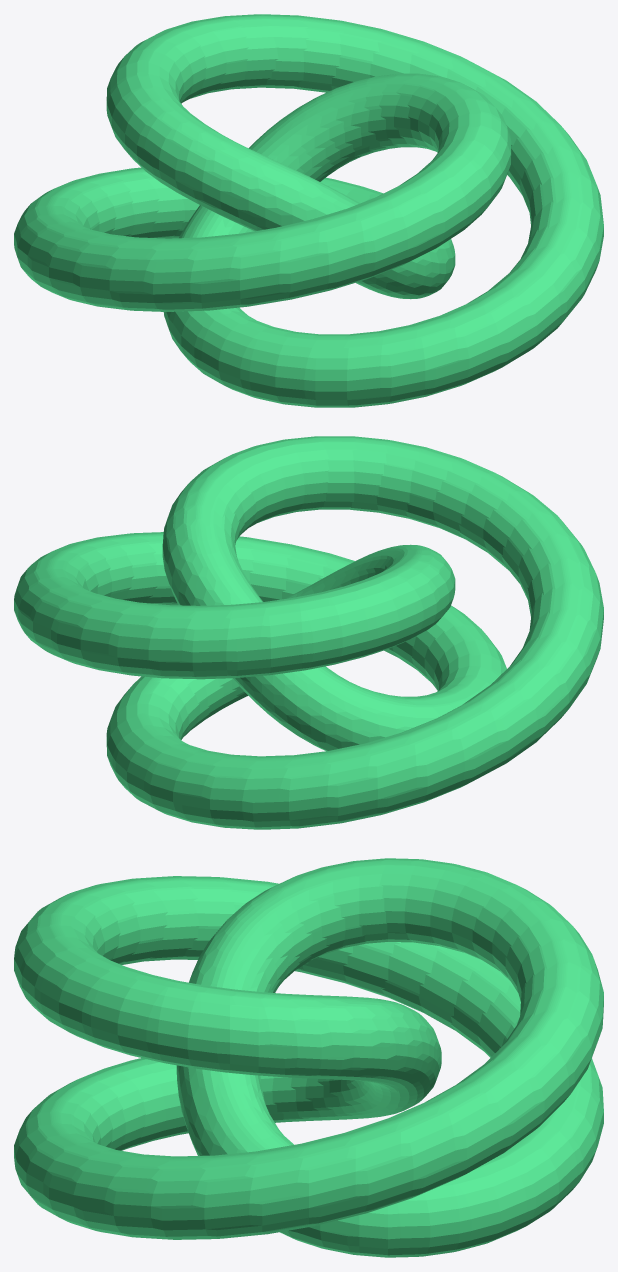
The model's file is knot.glb.
The picture shows the model from 3 angles, top to bottom: view 1: azimuth 30°, elevation 25°; view 2: azimuth 150°, elevation 25°; view 3: azimuth 270°, elevation 25°; orthographic projection. The views are drawn at different scales.
Parts seen in each view (by area): view 1: knot; view 2: knot; view 3: knot.
Part boxes in pixels (x1=…): knot: x1=14, y1=14, x2=603, y2=407; knot: x1=14, y1=436, x2=603, y2=829; knot: x1=14, y1=858, x2=603, y2=1257.
Bounding box in the file's own units: 2.04 × 0.8709 × 1.76.
